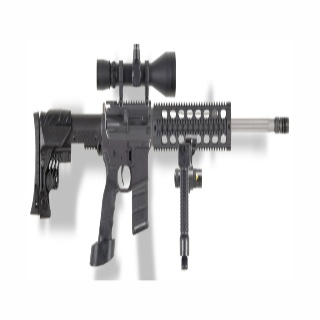rifle: (30, 43, 289, 276)
